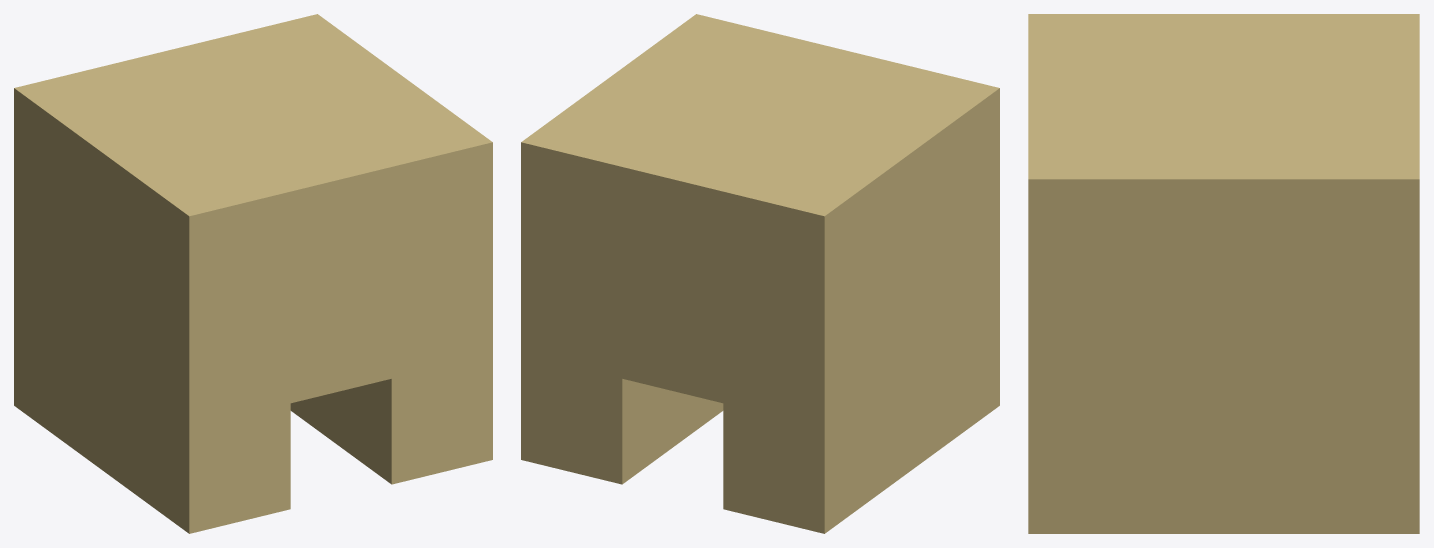
File: RightHand.obj
3 views of the same model, side by side, from view 1: azimuth 30°, elevation 25°; view 2: azimuth 150°, elevation 25°; view 3: azimuth 270°, elevation 25° (orthographic). The views are drawn at different scales.
Parts seen in each view (by area): view 1: RightHand; view 2: RightHand; view 3: RightHand.
Part boxes in pixels (x1,y1,x2,y2): RightHand: (14,14,492,533); RightHand: (521,14,999,533); RightHand: (1028,14,1419,533).
Size of the model in its own units: 3 by 3 by 3.
1 material, 1 textured.
